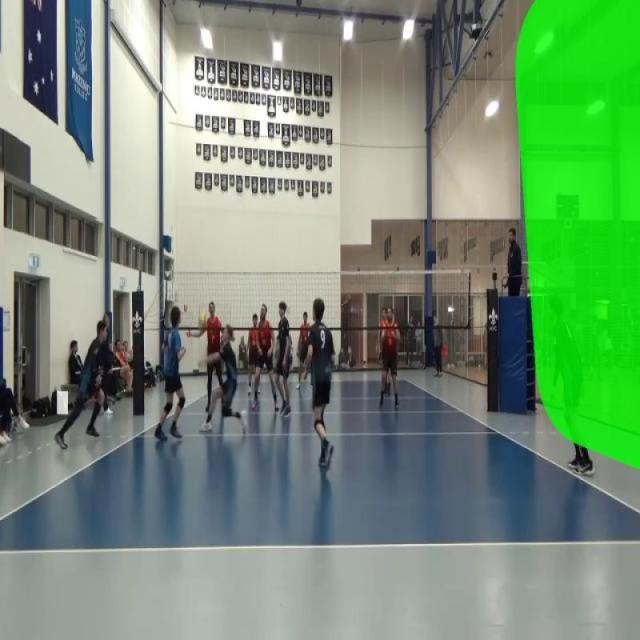volleyball: (198, 310, 208, 332)
